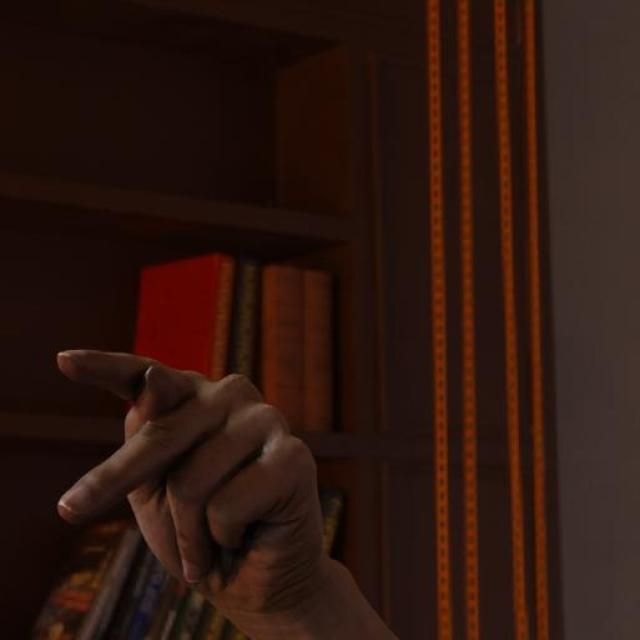P: (50, 344, 338, 621)
